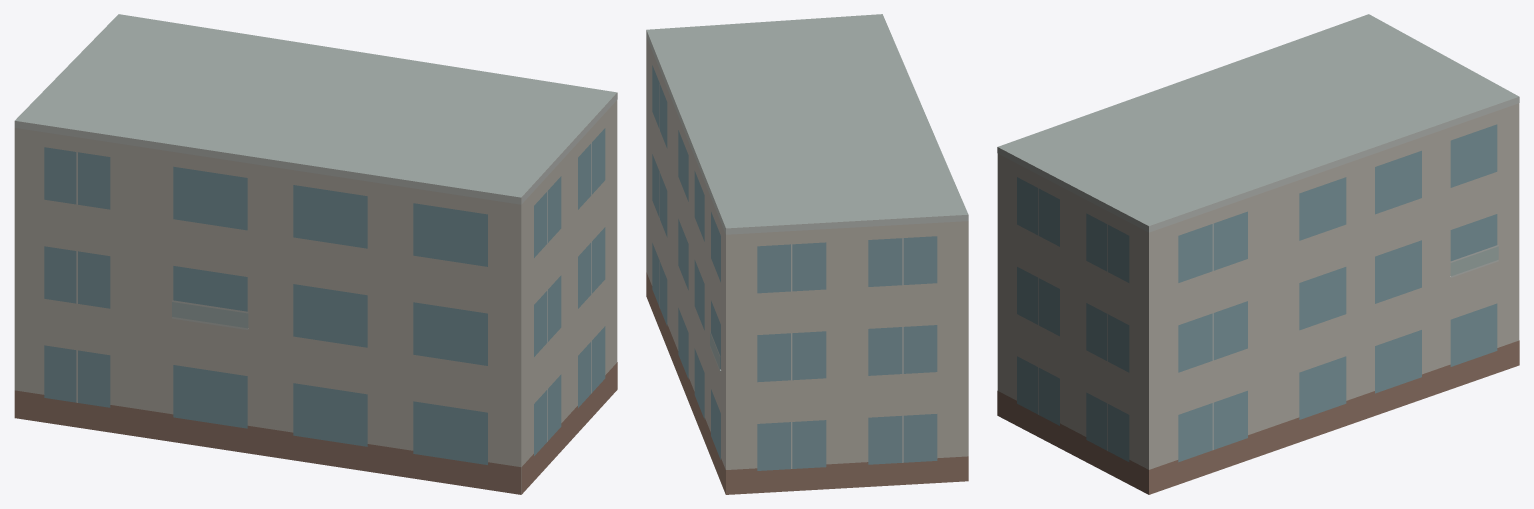
Rendered from survey-upis-32917428.glb.
3 views of the same model, side by side, from view 1: azimuth 30°, elevation 25°; view 2: azimuth 150°, elevation 25°; view 3: azimuth 270°, elevation 25° (orthographic). The views are drawn at different scales.
Visible parts, largest first — view 1: survey-upis-32917428.tmp; view 2: survey-upis-32917428.tmp; view 3: survey-upis-32917428.tmp.
Boxes of the visible parts, x1=… form: survey-upis-32917428.tmp: x1=14, y1=14, x2=617, y2=494; survey-upis-32917428.tmp: x1=646, y1=14, x2=968, y2=494; survey-upis-32917428.tmp: x1=997, y1=14, x2=1519, y2=494.
Size of the model in its own units: 17.28 by 10.2 by 17.97.
